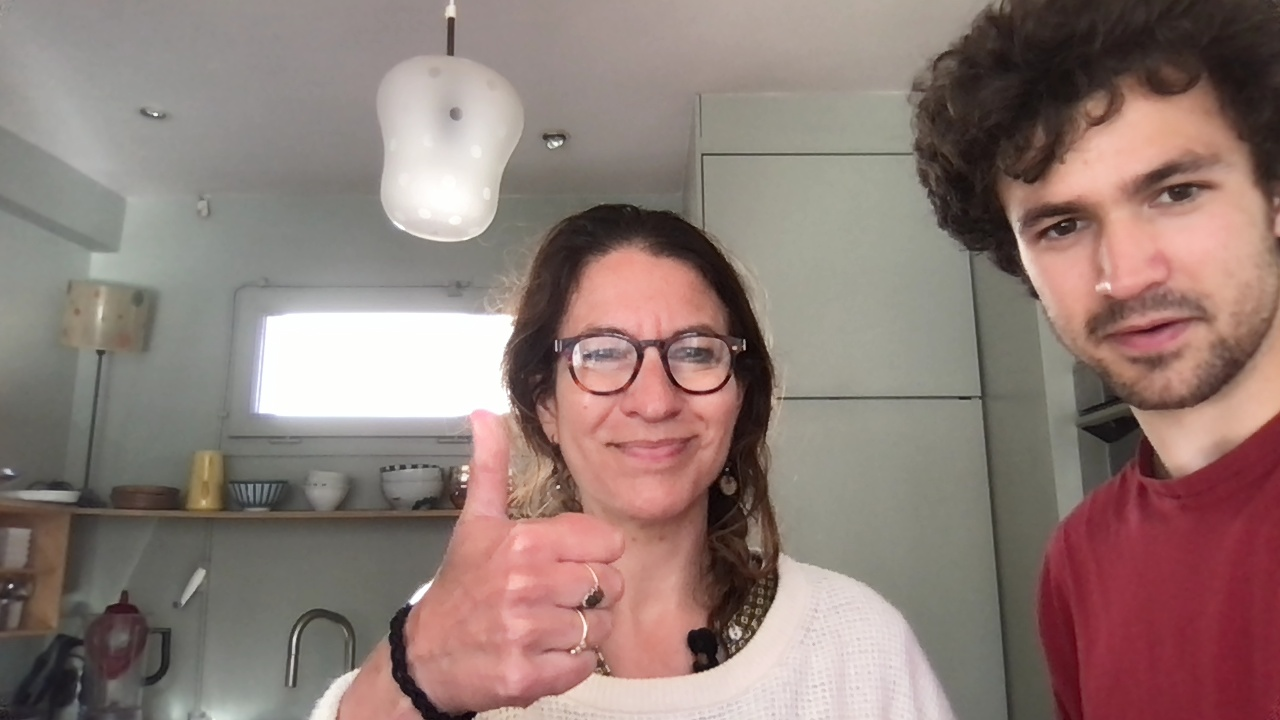thumbUp: (437, 410, 625, 709)
